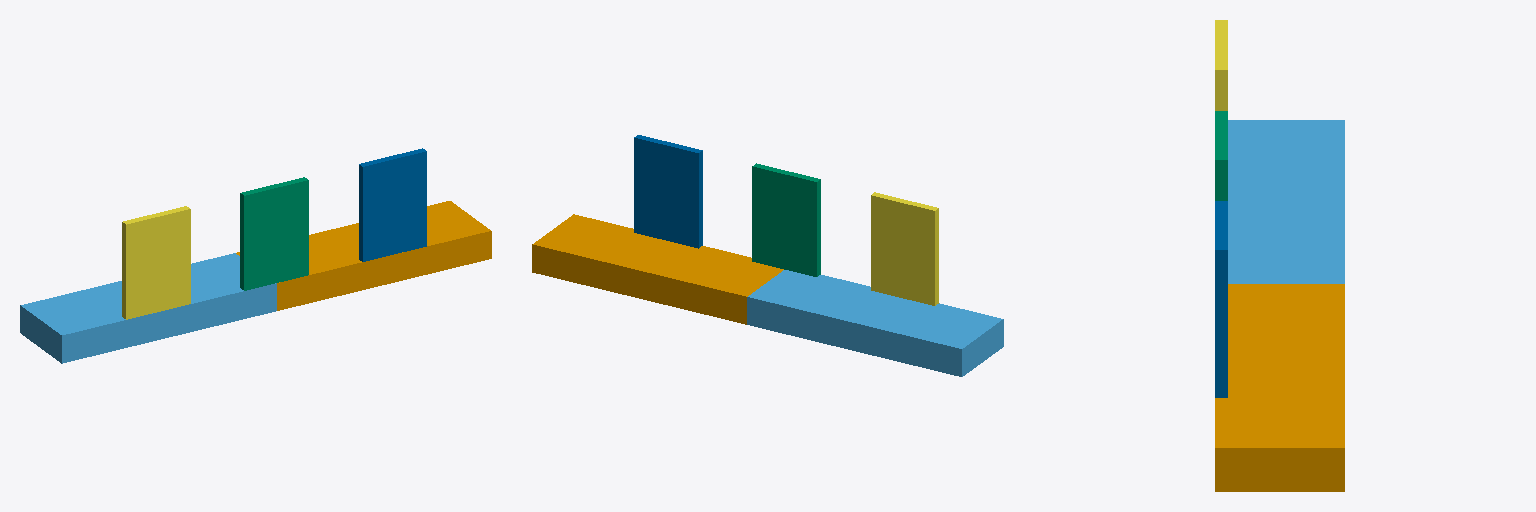
robot.urdf — dock:
<?xml version='1.0'?>
<robot name ="dock">
    <link name="dock1_link">    

      <inertial>
        <mass value="100" />
        <inertia ixx="1.0" ixy="0.0" ixz="0.0" iyy="1.0" iyz="0.0" izz="1.0" />
      </inertial>

      <visual>
      <origin xyz= "1.524 0 0.190"/>
        <geometry>
          <box size="3.048 1.016 0.381" rpy="0 0 0"/>
        </geometry>
      </visual> 

      <collision>
        <origin xyz="1.524 0 0.190"/>
        <geometry>
          <box size="3.048 1.016 0.381" rpy="0 0 0"/>
        </geometry>
      </collision>

      </link>

        <gazebo reference="dock1_link">
        <material>Gazebo/Wood</material>
        <turnGravityOff>true</turnGravityOff>
    </gazebo>
  
      <link name="dock2_link">    

      <inertial>
        <mass value="100" />
        <inertia ixx="1.0" ixy="0.0" ixz="0.0" iyy="1.0" iyz="0.0" izz="1.0" />
      </inertial>

      <visual>
      <origin xyz= "-1.524 0 0.190"/>
        <geometry>
          <box size="3.048 1.016 0.381" rpy="0 0 0"/>
        </geometry>
      </visual> 

      <collision>
        <origin xyz="-1.524 0 0.190"/>
        <geometry>
          <box size="3.048 1.016 0.381" rpy="0 0 0"/>
        </geometry>
      </collision>


      </link>
     

      <joint name="dock1_to_dock2" type="fixed">
      <parent link="dock1_link"/>
       <child link="dock2_link"/>
     </joint>

       <gazebo reference="dock2_link">
        <material>Gazebo/Wood</material>
        <turnGravityOff>true</turnGravityOff>
    </gazebo>


    <link name="image0_link">    

      <inertial>
        <mass value="100" />
        <inertia ixx="1.0" ixy="0.0" ixz="0.0" iyy="1.0" iyz="0.0" izz="1.0" />
      </inertial>

      <visual>
      <origin xyz= "0 -0.458 1.0266"/>
        <geometry>
          <box size="0.9144 0.1 1.2912" rpy="0 0 0"/>
        </geometry>
      </visual> 

      <collision>
        <origin xyz="0 -0.458 1.0266"/>
        <geometry>
          <box size="0.9144 0.1 1.2912" rpy="0 0 0"/>
        </geometry>
      </collision>

    </link>

      <joint name="dock1_to_image0" type="fixed">
      <parent link="dock1_link"/>
       <child link="image0_link"/>
     </joint>

    <gazebo reference="image0_link">
        <material>Gazebo/Green</material>
        <turnGravityOff>true</turnGravityOff>
    </gazebo>

    <link name="image1_link">    

      <inertial>
        <mass value="100" />
        <inertia ixx="1.0" ixy="0.0" ixz="0.0" iyy="1.0" iyz="0.0" izz="1.0" />
      </inertial>

      <visual>
      <origin xyz= "-1.6764 -0.458 1.0266"/>
        <geometry>
          <box size="0.9144 0.1 1.2912" rpy="0 0 0"/>
        </geometry>
      </visual> 

      <collision>
        <origin xyz="-1.6764 -0.458 1.0266"/>
        <geometry>
          <box size="0.9144 0.1 1.2912" rpy="0 0 0"/>
        </geometry>
      </collision>

    </link>

     <gazebo reference="image1_link">
        <material>Gazebo/Red</material>
        <turnGravityOff>true</turnGravityOff>
    </gazebo>

    <joint name="dock1_to_image1" type="fixed">
      <parent link="dock1_link"/>
       <child link="image1_link"/>
     </joint>

    <link name="image2_link">    

      <inertial>
        <mass value="100" />
        <inertia ixx="1.0" ixy="0.0" ixz="0.0" iyy="1.0" iyz="0.0" izz="1.0" />
      </inertial>

      <visual>
      <origin xyz= "1.6764 -0.458 1.0266"/>
        <geometry>
          <box size="0.9144 0.1 1.2912" rpy="0 0 0"/>
        </geometry>
      </visual> 

      <collision>
        <origin xyz="1.6764 -0.458 1.0266"/>
        <geometry>
          <box size="0.9144 0.1 1.2912" rpy="0 0 0"/>
        </geometry>
      </collision>

      

    </link>

 <joint name="dock1_to_image2" type="fixed">
      <parent link="dock1_link"/>
       <child link="image2_link"/>
     </joint>

     <gazebo reference="image2_link">
        <material>Gazebo/Blue</material>
        <turnGravityOff>true</turnGravityOff>
    </gazebo>
  

      


        
    </robot>

--- What the picture shows (computed from the rendered views, not written in the file) ---
Views: 3 orthographic renders of the robot side by side, from view 1: azimuth 30°, elevation 25°; view 2: azimuth 150°, elevation 25°; view 3: azimuth 270°, elevation 25°.
Robot: dock — 5 links, 4 joints (4 fixed); root link dock1_link; default pose: all joints at 0.
Links seen in each view (by area): view 1: dock2_link, dock1_link, image0_link, image1_link, image2_link; view 2: dock2_link, dock1_link, image0_link, image2_link, image1_link; view 3: dock1_link, dock2_link, image2_link, image1_link, image0_link.
Link boxes in pixels (x1=…): dock2_link: x1=20, y1=253, x2=276, y2=363; dock1_link: x1=236, y1=201, x2=491, y2=310; image0_link: x1=240, y1=177, x2=308, y2=290; image1_link: x1=122, y1=206, x2=190, y2=319; image2_link: x1=359, y1=148, x2=426, y2=261; dock2_link: x1=747, y1=270, x2=1003, y2=376; dock1_link: x1=532, y1=214, x2=783, y2=324; image0_link: x1=752, y1=163, x2=820, y2=276; image2_link: x1=634, y1=135, x2=702, y2=248; image1_link: x1=871, y1=192, x2=938, y2=305; dock1_link: x1=1215, y1=284, x2=1344, y2=491; dock2_link: x1=1228, y1=120, x2=1344, y2=283; image2_link: x1=1215, y1=201, x2=1227, y2=397; image1_link: x1=1215, y1=20, x2=1227, y2=110; image0_link: x1=1215, y1=111, x2=1227, y2=200.
Size in the robot's own frame: 6.1 by 1.02 by 1.67 metres.
Geometry: primitives only (box / cylinder / sphere), no mesh files.